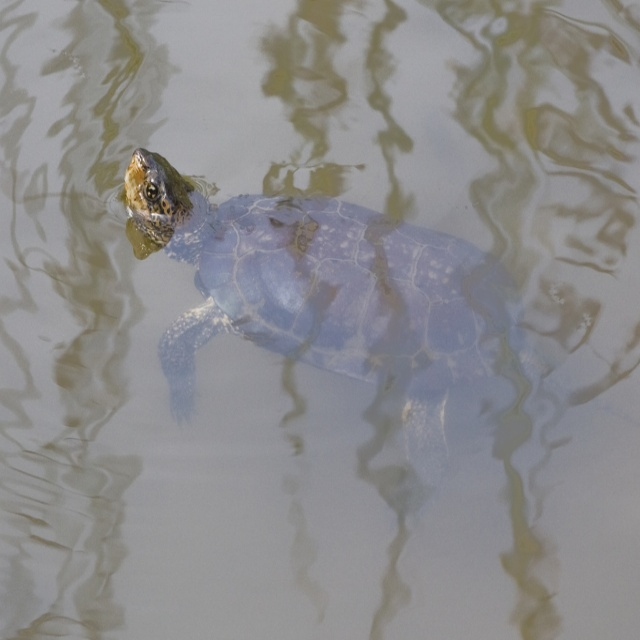Sea turtle: (114, 141, 542, 492)
